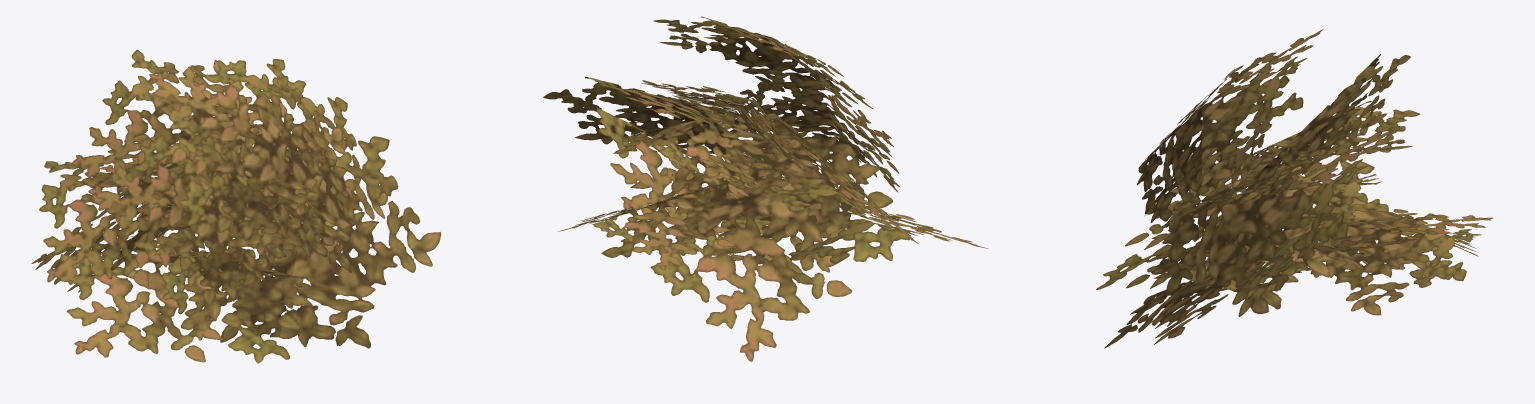
Rendered from hua14.FBX.
3 views of the same model, side by side, from view 1: azimuth 30°, elevation 25°; view 2: azimuth 150°, elevation 25°; view 3: azimuth 270°, elevation 25° (orthographic). The views are drawn at different scales.
Visible parts, largest first — view 1: hua10; view 2: hua10; view 3: hua10.
Part boxes in pixels (bbox=[...]): hua10: bbox=[31, 50, 441, 363]; hua10: bbox=[543, 16, 988, 361]; hua10: bbox=[1096, 29, 1492, 348].
Size of the model in its own units: 92.44 by 54.89 by 76.46.
